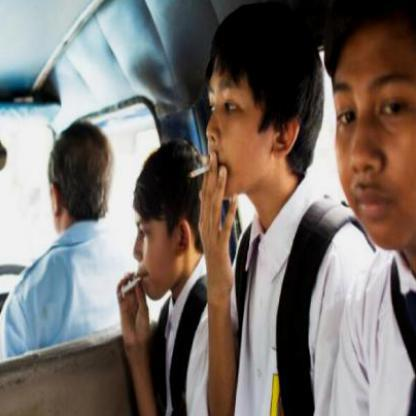cigarette: (120, 275, 142, 296), (189, 164, 212, 180)
person: (196, 3, 354, 415), (330, 0, 414, 415), (10, 113, 126, 368), (118, 136, 219, 415)
